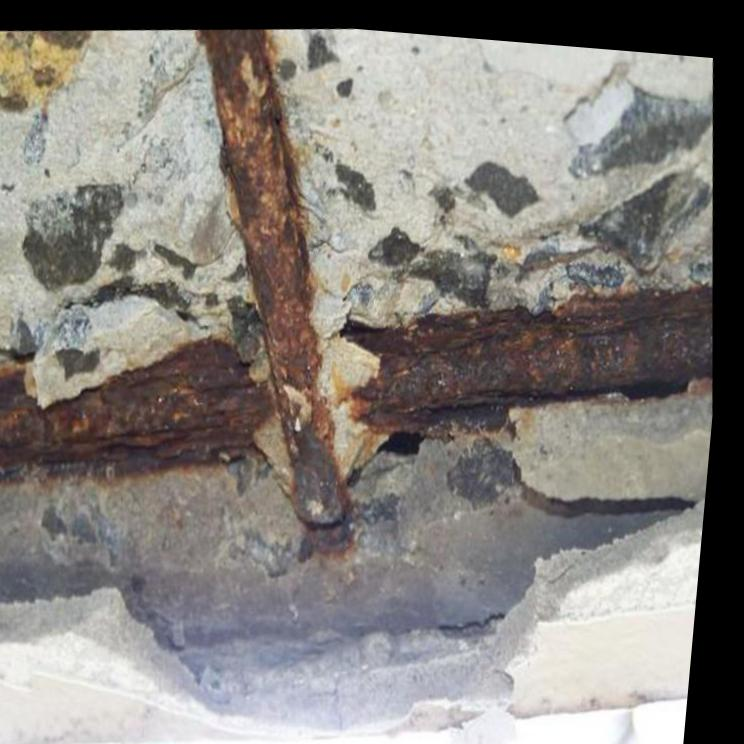damage: (0, 23, 719, 734)
